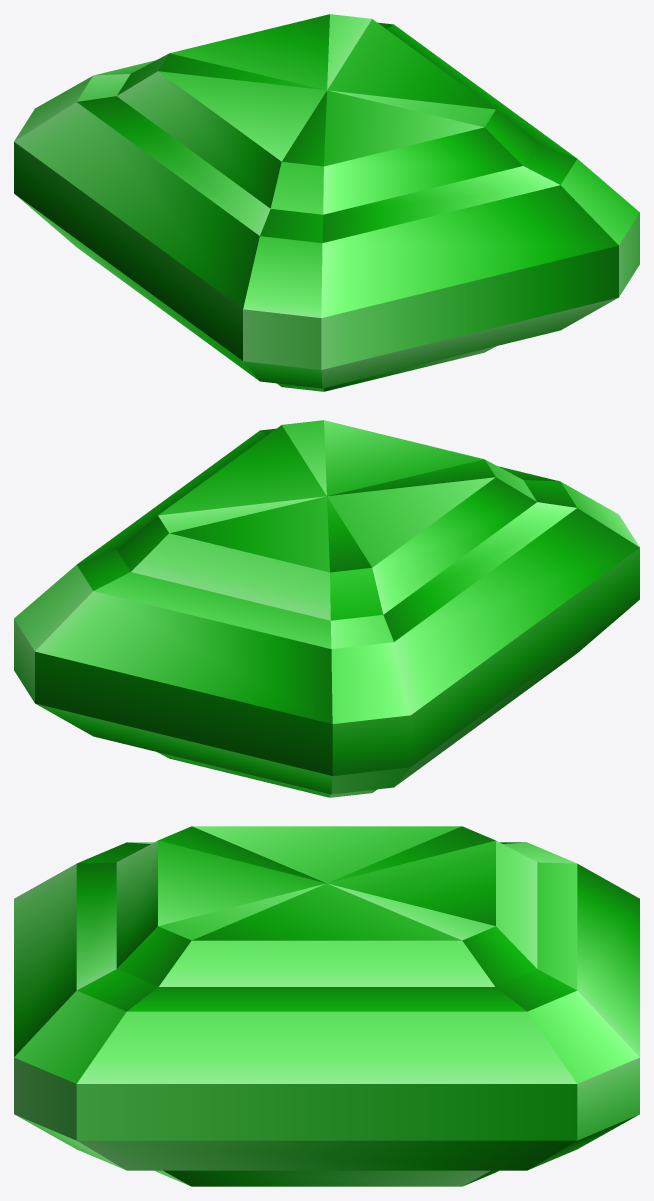
File: oemerald.FBX
The picture shows the model from 3 angles, top to bottom: view 1: azimuth 30°, elevation 25°; view 2: azimuth 150°, elevation 25°; view 3: azimuth 270°, elevation 25°; orthographic projection. The views are drawn at different scales.
Visible parts, largest first — view 1: Jewelry_02; view 2: Jewelry_02; view 3: Jewelry_02.
Boxes of the visible parts, left/top/right/bottom form: Jewelry_02: left=14, top=14, right=639, bottom=391; Jewelry_02: left=14, top=420, right=639, bottom=797; Jewelry_02: left=14, top=826, right=639, bottom=1186.
Size of the model in its own units: 6.99 by 8.74 by 3.79.
Materials: 1 (1 with a texture image).
